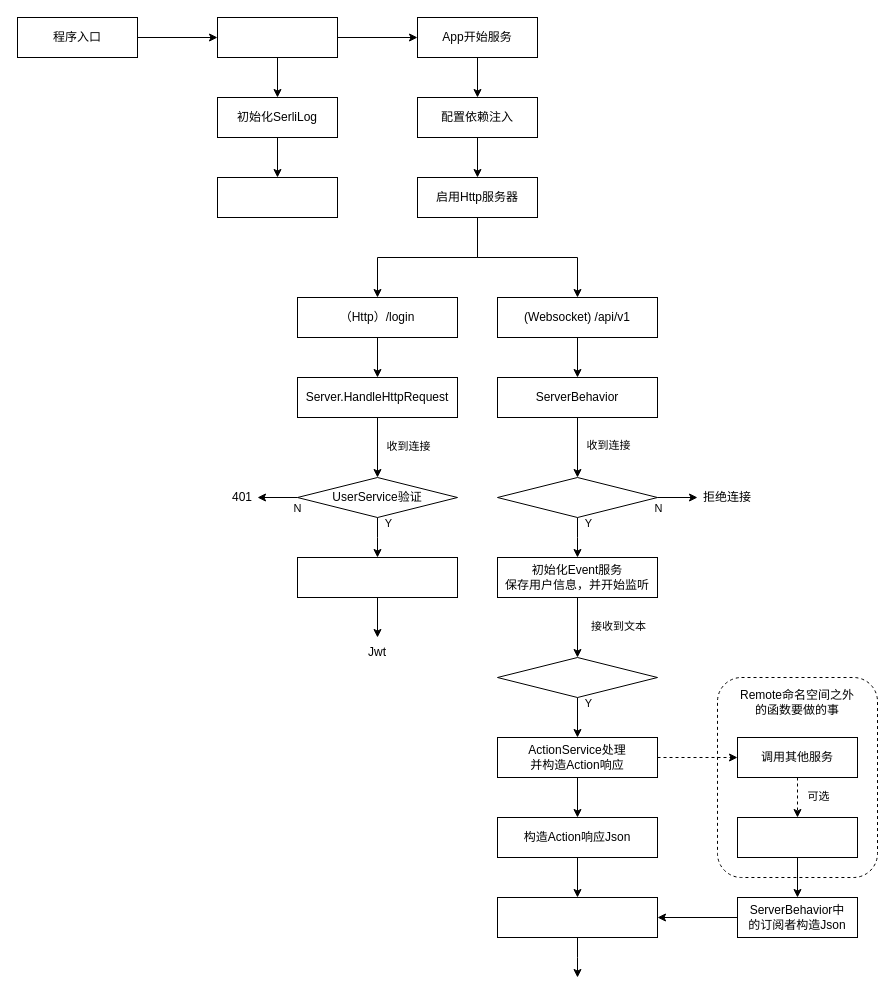
This 895x1003 diagram has some shape labels left out. Each missing label, with the centre of its shape:
"JwtUtils生成Jwt" goes at pixel 377 577.
"UserService验证Jwt" goes at pixel 577 497.
"初始化App" goes at pixel 277 37.
"初始化文件夹" goes at pixel 277 197.
"发送Json" goes at pixel 577 917.
"解析Action" goes at pixel 577 677.
"触发Event事件" goes at pixel 797 837.
